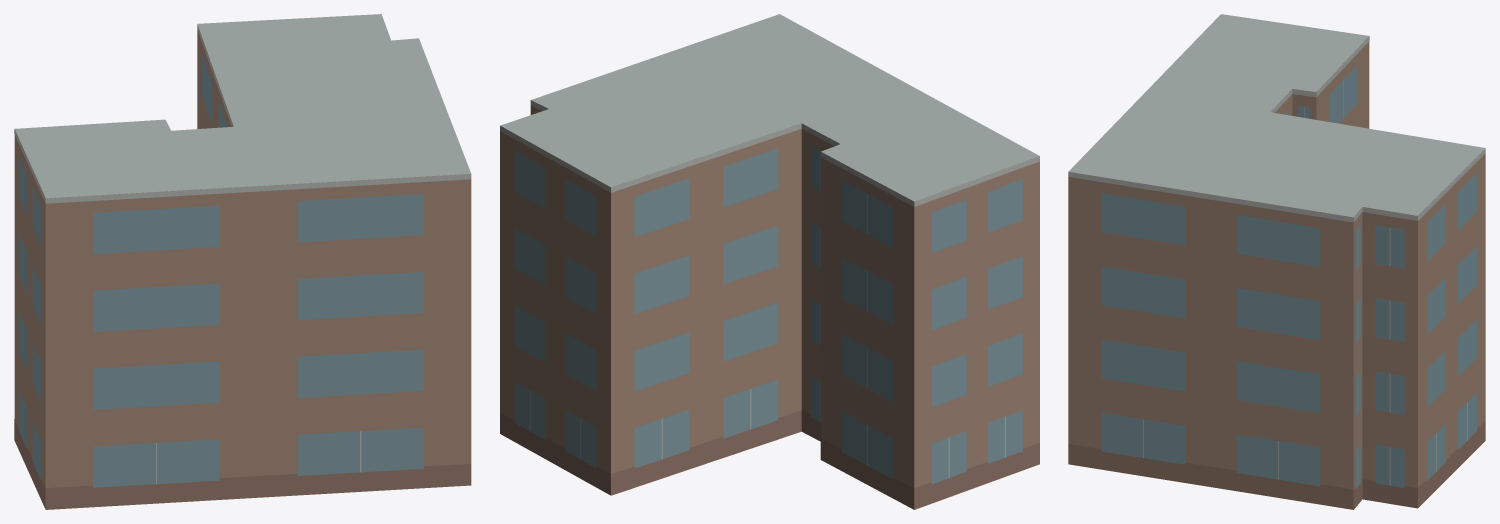
The model's file is survey-upis-32986556.glb.
3 renders of one model, left to right at view 1: azimuth 30°, elevation 25°; view 2: azimuth 150°, elevation 25°; view 3: azimuth 270°, elevation 25°, orthographic. The views are drawn at different scales.
Parts seen in each view (by area): view 1: survey-upis-32986556.tmp; view 2: survey-upis-32986556.tmp; view 3: survey-upis-32986556.tmp.
Boxes of the visible parts, x1,y1,x2,y2 form: survey-upis-32986556.tmp: (14,14,471,509); survey-upis-32986556.tmp: (500,14,1039,509); survey-upis-32986556.tmp: (1068,14,1485,509).
Bounding box in the file's own units: 20.88 × 14 × 18.11.
